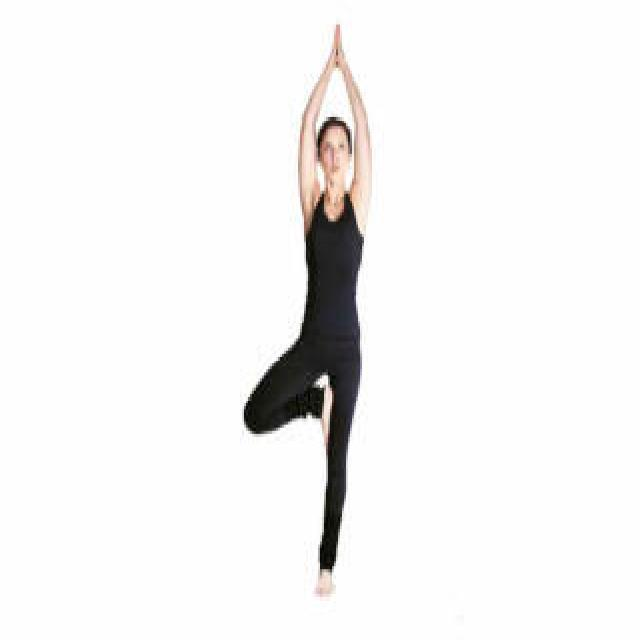yoga-pose tree: (247, 28, 375, 592)
